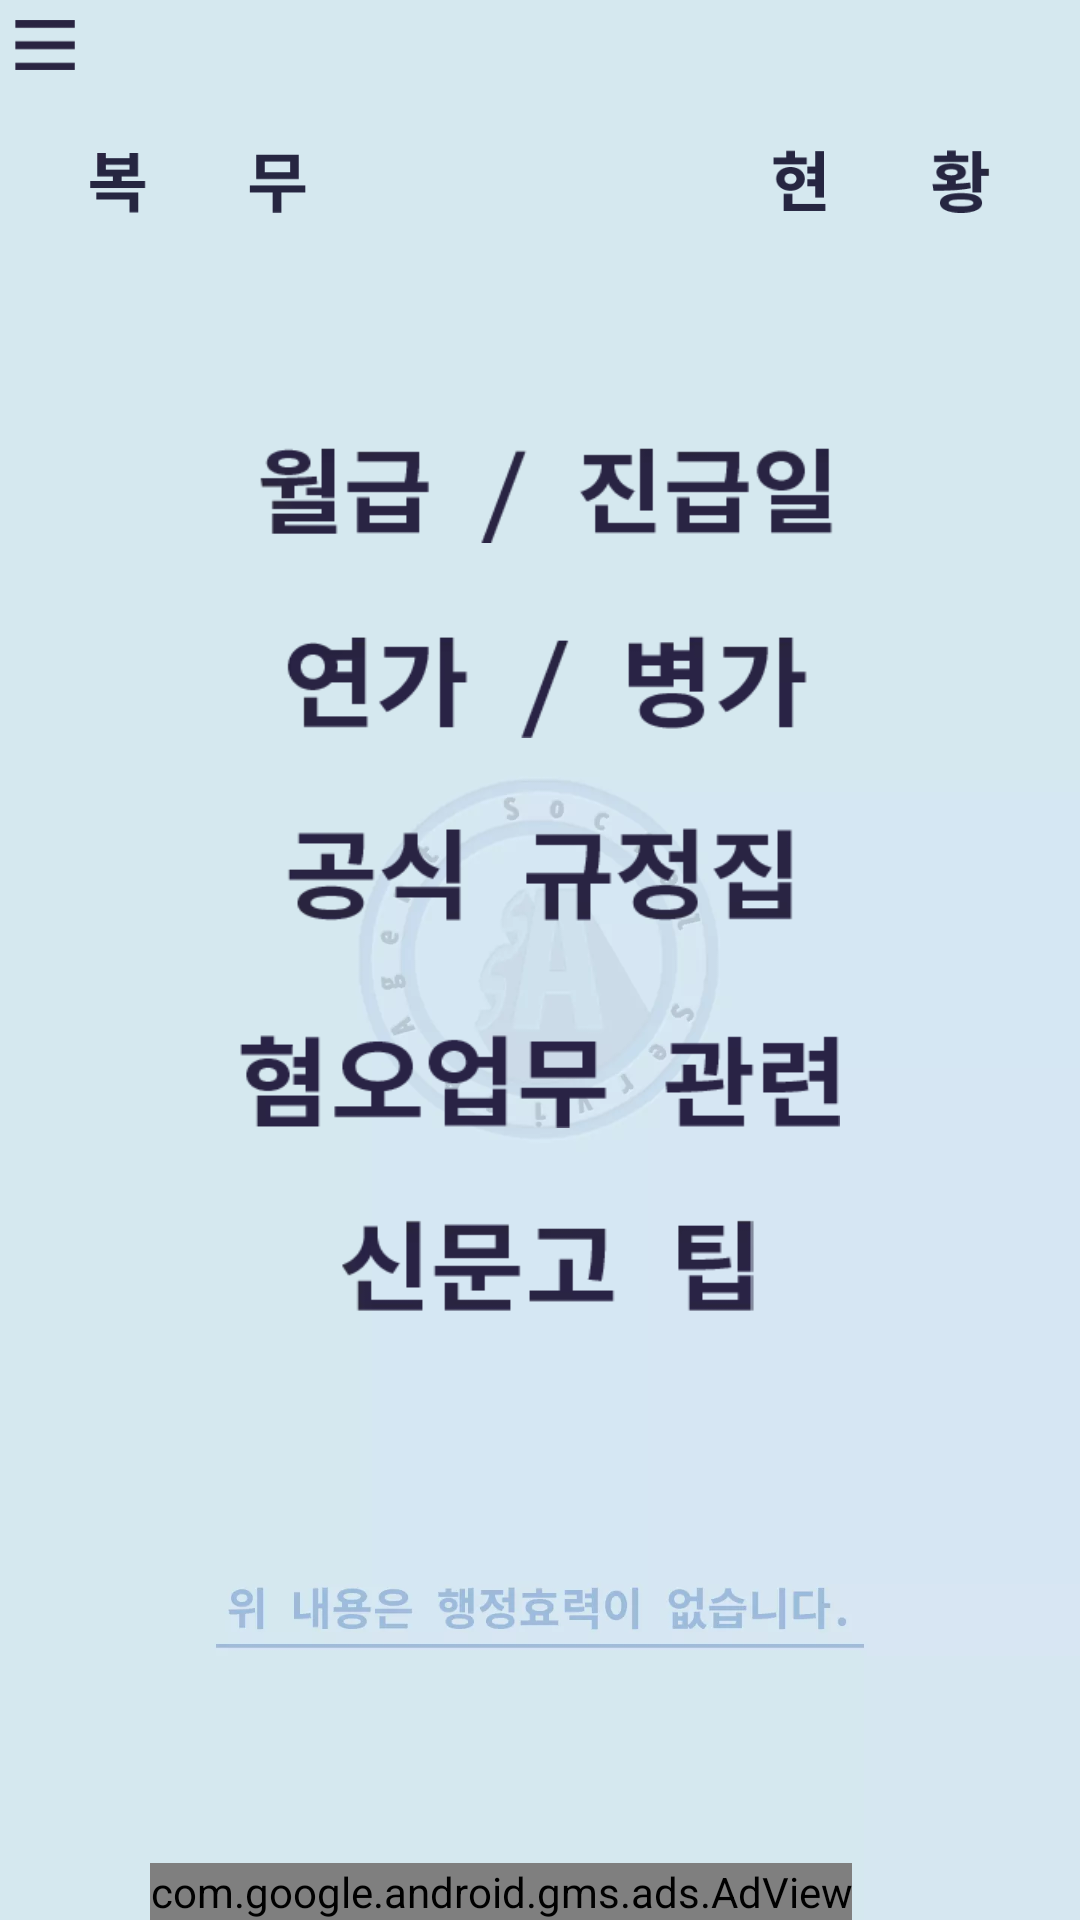

Locate icon controls on the screen. Image size 1080 x 1920, boxes as (x1, y1, x2, y2).
menu: (15, 20, 75, 70)
